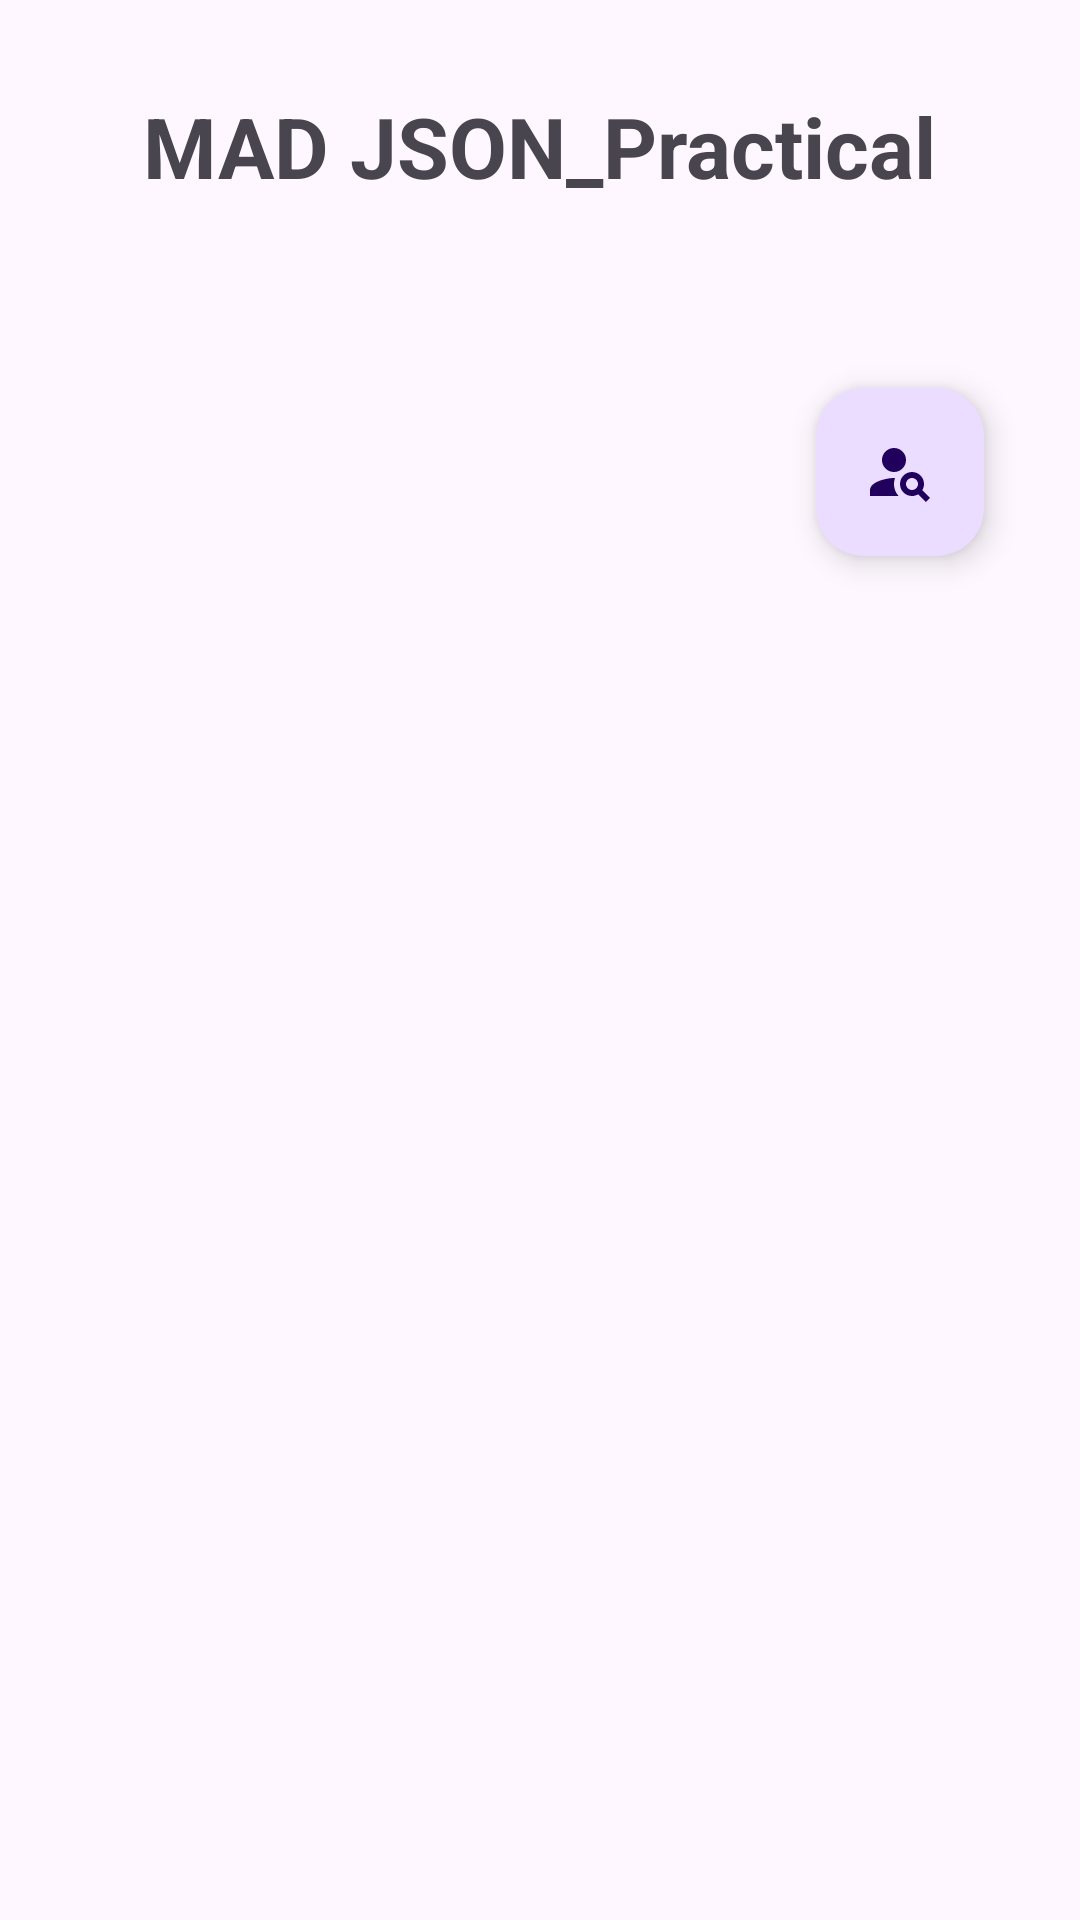

Named icons in this screenshot (1080w x 1920h) and their centers, (x,y):
person search: (900,472)
